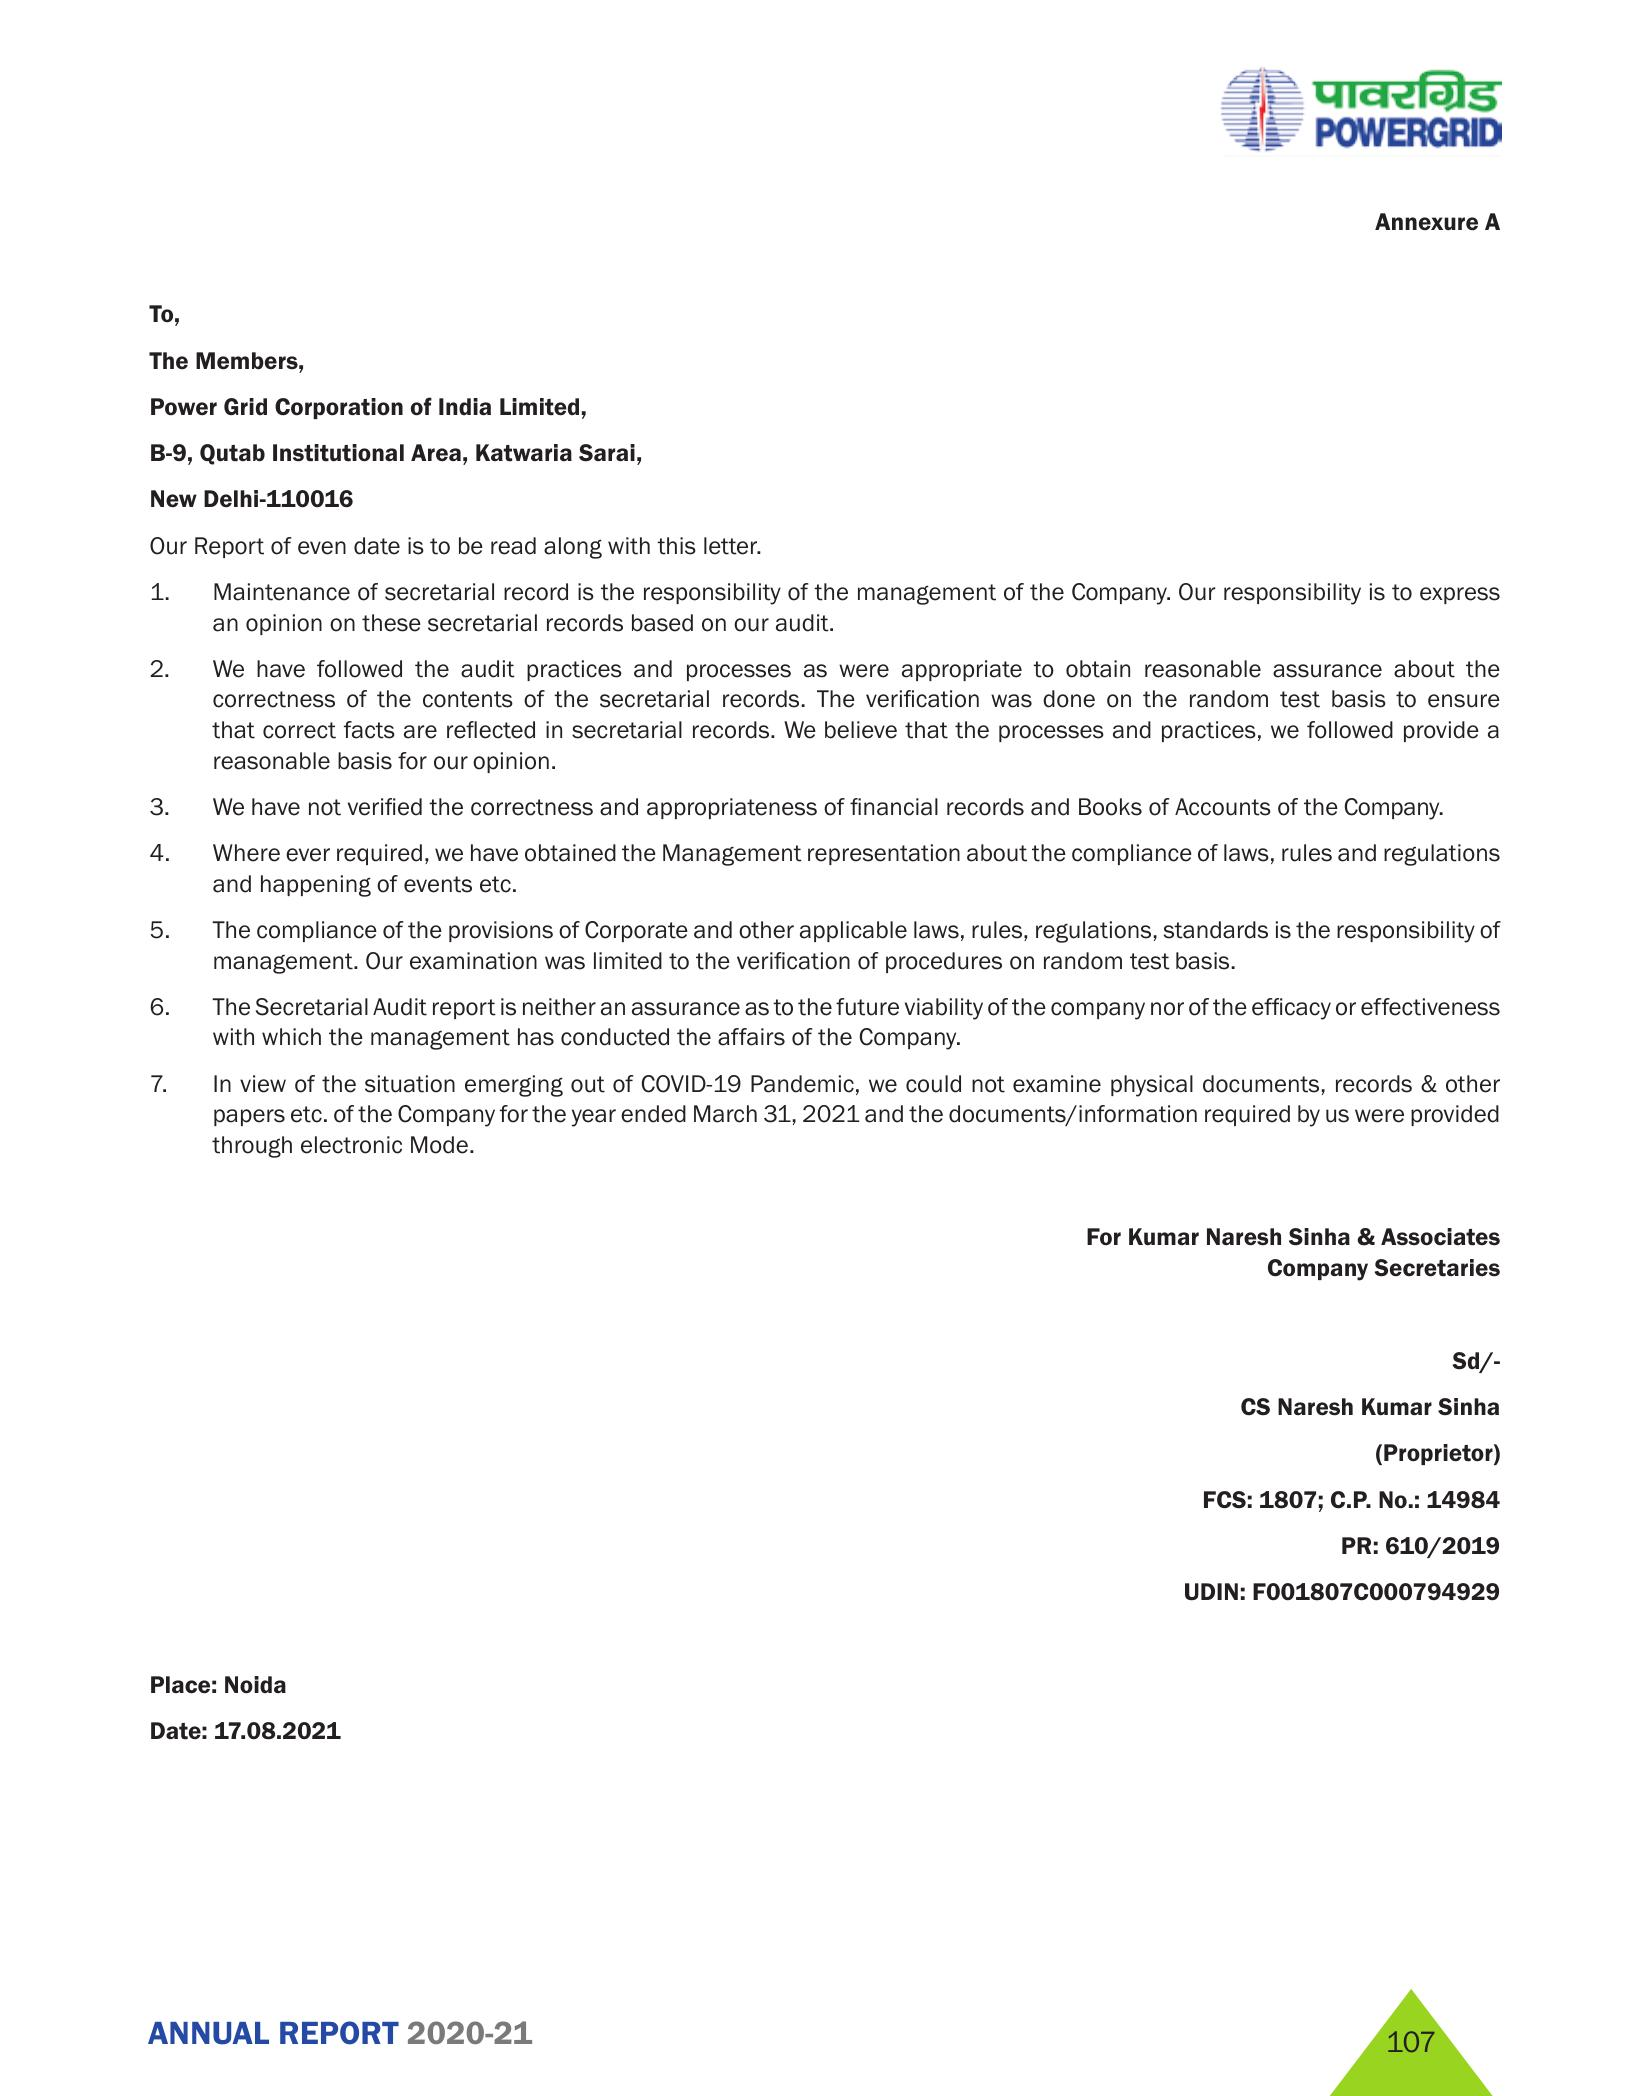Footer: (0, 1961, 1650, 2096)
Header: (0, 0, 1650, 168)
